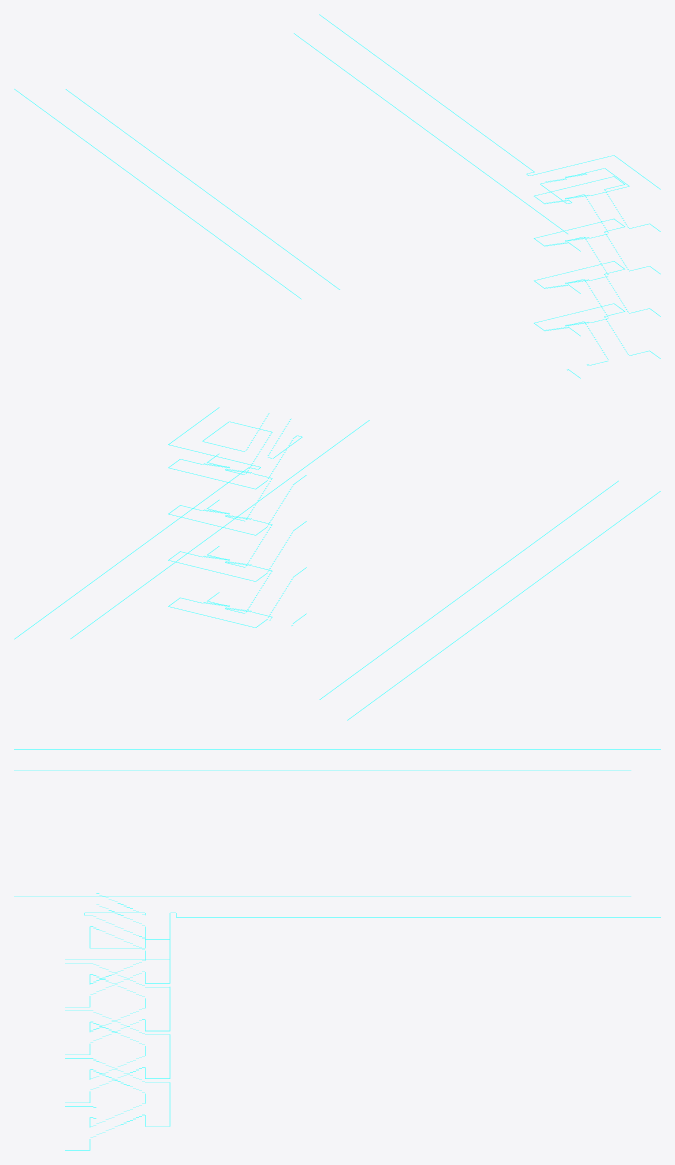
Rendered from v02-01-06-cyan.glb.
The picture shows the model from 3 angles, top to bottom: view 1: azimuth 30°, elevation 25°; view 2: azimuth 150°, elevation 25°; view 3: azimuth 270°, elevation 25°; orthographic projection. The views are drawn at different scales.
Parts seen in each view (by area): view 1: v02-01-06-cyan; view 2: v02-01-06-cyan; view 3: v02-01-06-cyan.
Part boxes in pixels (<box>): v02-01-06-cyan: <box>14,14,660,378</box>; v02-01-06-cyan: <box>14,407,660,720</box>; v02-01-06-cyan: <box>14,749,660,1150</box>.
Bounding box in the file's own units: 58.79 × 27.93 × 76.5.
